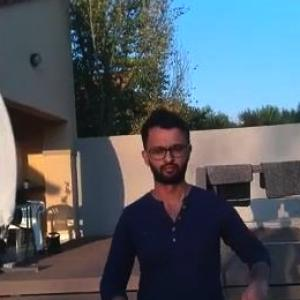follow: (96, 101, 286, 299)
